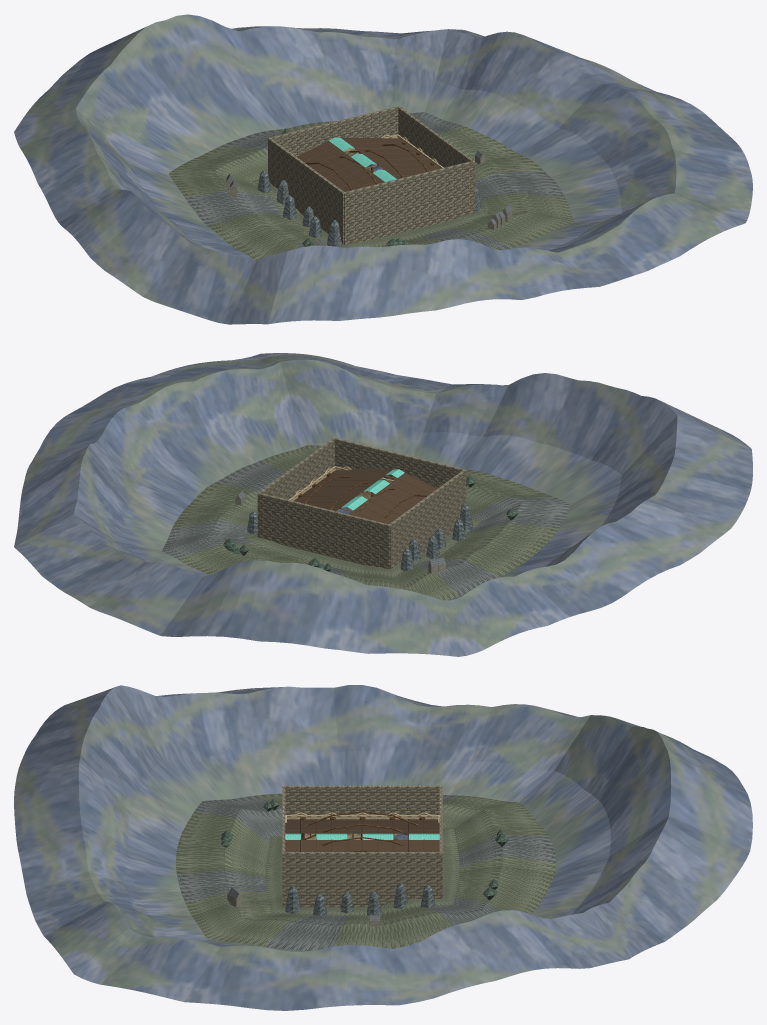
File: SignalLoom.fbx
3 views of the same model, one above another, from view 1: azimuth 30°, elevation 25°; view 2: azimuth 150°, elevation 25°; view 3: azimuth 270°, elevation 25° (orthographic). The views are drawn at different scales.
Visible parts, largest first — view 1: Surroundings, C_Solids, Rim, Horizon; view 2: Surroundings, C_Solids, Rim, Horizon; view 3: Surroundings, C_Solids, Rim, Horizon.
Part boxes in pixels (x1,y1,x2,y2): Surroundings: [14, 14, 752, 324]; C_Solids: [268, 106, 474, 244]; Rim: [296, 134, 443, 191]; Horizon: [257, 170, 481, 246]; Surroundings: [14, 353, 752, 656]; C_Solids: [257, 437, 466, 569]; Rim: [289, 466, 437, 524]; Horizon: [247, 504, 472, 570]; Surroundings: [14, 685, 752, 1010]; C_Solids: [282, 785, 442, 907]; Rim: [285, 811, 439, 851]; Horizon: [285, 883, 435, 915].
Bounding box in the file's own units: 19401 × 3054 × 19160.
